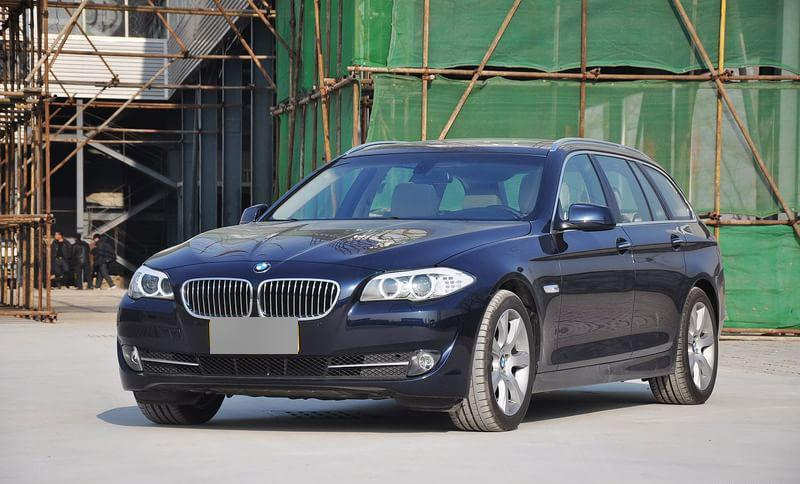Wagon: (116, 136, 728, 432)
